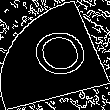O_S: (19, 24, 91, 86)
